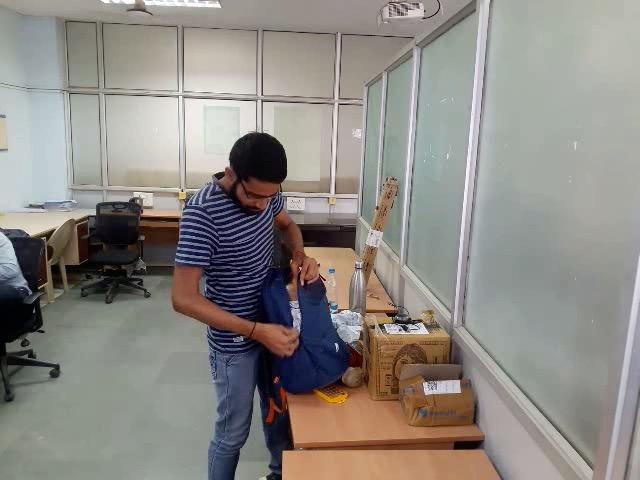shoplifting: (151, 244, 458, 347)
